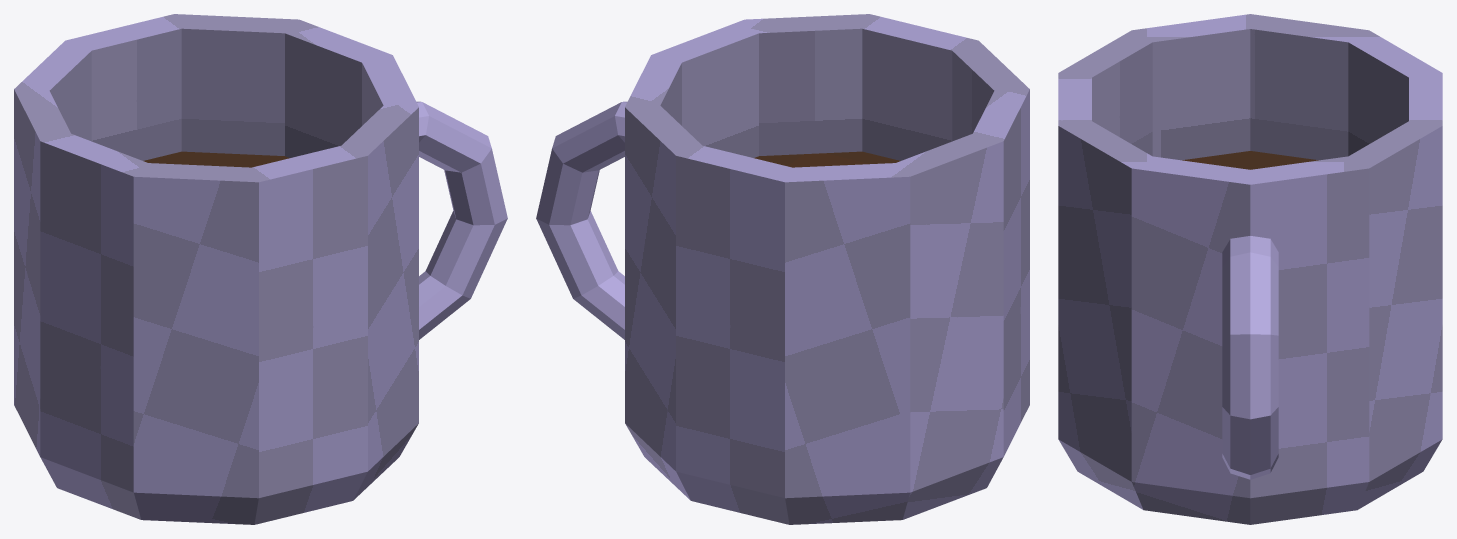
Rendered from mug1.fbx.
3 views of the same model, side by side, from view 1: azimuth 30°, elevation 25°; view 2: azimuth 150°, elevation 25°; view 3: azimuth 270°, elevation 25° (orthographic).
Visible parts, largest first — view 1: cylinder, torus; view 2: cylinder, torus; view 3: cylinder, torus.
Part boxes in pixels (box(x1,y1,x2,y2)): cylinder: box(14, 14, 418, 524); torus: box(416, 101, 507, 339); cylinder: box(625, 14, 1029, 524); torus: box(536, 101, 627, 339); cylinder: box(1058, 14, 1442, 524); torus: box(1222, 236, 1278, 479).
Size of the model in its own units: 4.22 by 3.05 by 3.05.
2 materials, 2 textured.
